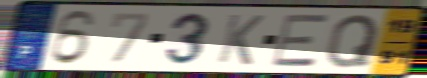3: (162, 11, 214, 68)
6: (48, 8, 97, 67)
7: (108, 11, 152, 65)
E: (269, 13, 331, 68)
K: (214, 12, 267, 67)
Q: (323, 12, 382, 70)
